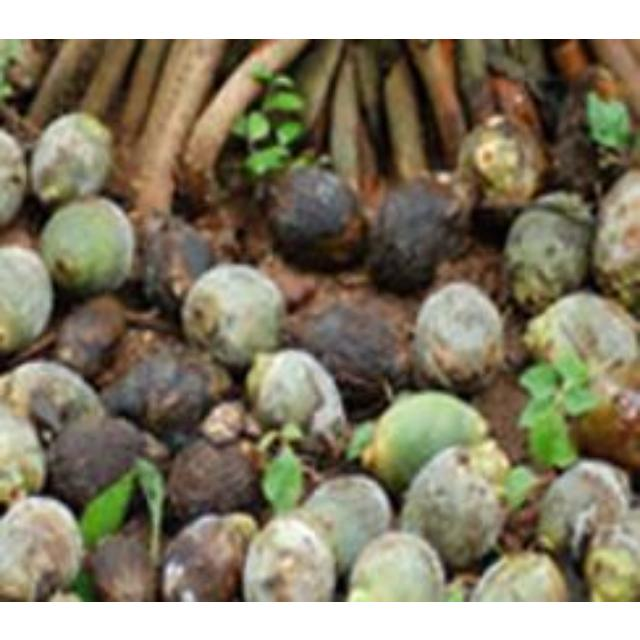damaged: (288, 298, 410, 412), (398, 446, 508, 568), (362, 390, 488, 492), (330, 41, 396, 231), (366, 176, 470, 292), (264, 164, 370, 272), (104, 342, 218, 440), (524, 290, 636, 388), (411, 281, 507, 394), (503, 192, 595, 308), (46, 412, 152, 512), (181, 264, 283, 366), (452, 115, 546, 217), (296, 473, 392, 572), (40, 198, 136, 296), (534, 458, 630, 556), (245, 348, 345, 442), (0, 494, 86, 600), (160, 511, 258, 601), (164, 436, 264, 524), (241, 515, 337, 601), (139, 215, 219, 318), (1, 360, 104, 438), (342, 530, 450, 602), (568, 368, 640, 474), (24, 114, 110, 202), (590, 168, 640, 306), (51, 294, 128, 378), (0, 246, 56, 354), (472, 371, 534, 462), (89, 524, 161, 600), (466, 550, 570, 602), (252, 421, 326, 493), (190, 190, 260, 266), (0, 404, 50, 504), (498, 470, 558, 552), (98, 322, 170, 390), (343, 286, 419, 350), (546, 120, 602, 200), (582, 528, 640, 602), (259, 248, 325, 312), (310, 459, 382, 511), (168, 148, 225, 212), (104, 362, 158, 421), (1, 128, 31, 225), (0, 41, 48, 94), (216, 142, 262, 194), (569, 62, 623, 106), (1, 364, 43, 420), (594, 134, 640, 184), (0, 96, 44, 146), (530, 80, 570, 134), (1, 550, 40, 602), (446, 169, 482, 219), (0, 217, 42, 255)
